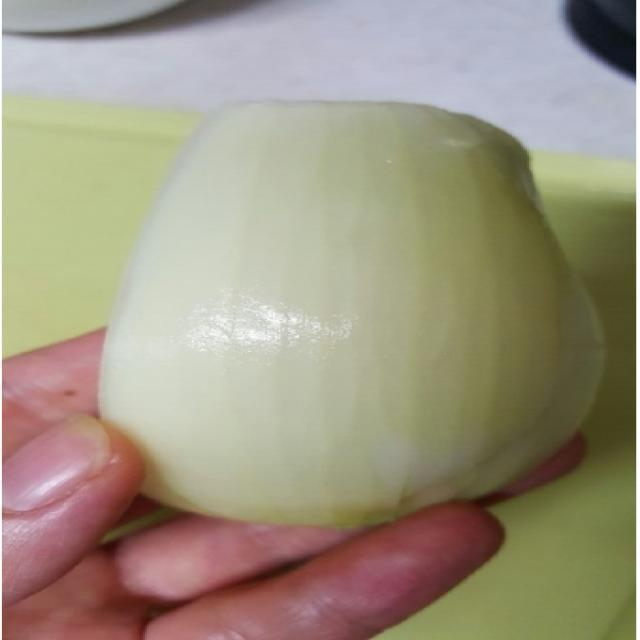Onion: (98, 99, 604, 530)
